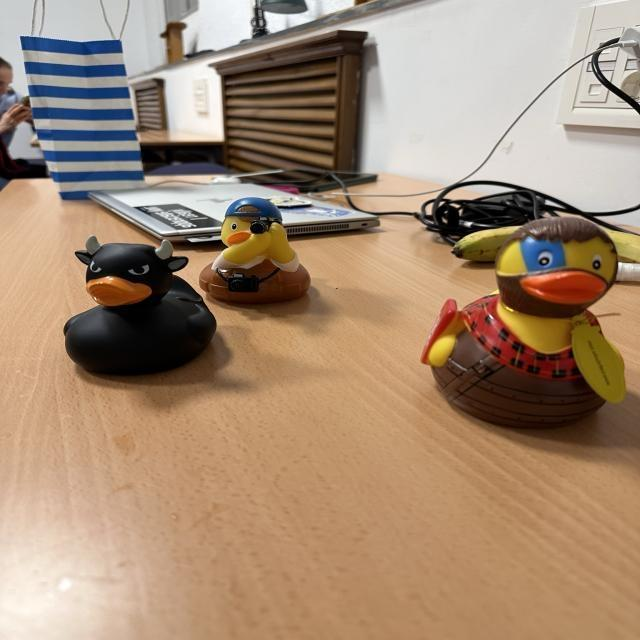rubber-duck: (420, 215, 623, 424), (63, 235, 214, 372), (198, 196, 308, 301)
